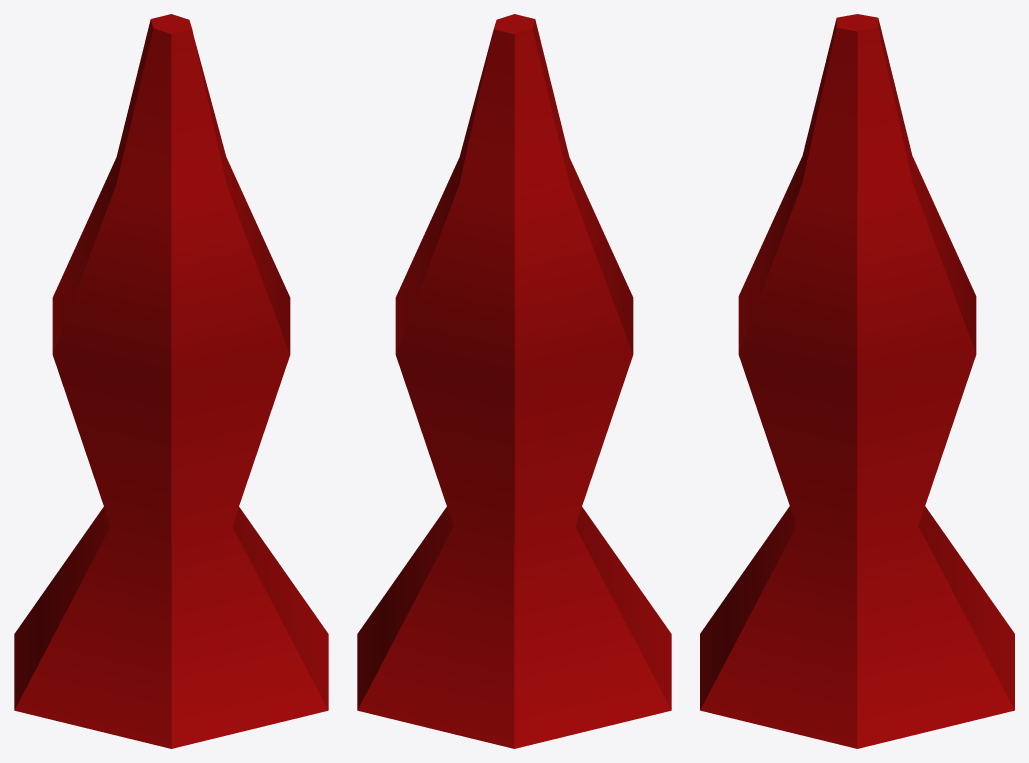
File: proyectil medio.fbx
3 views of the same model, side by side, from view 1: azimuth 30°, elevation 25°; view 2: azimuth 150°, elevation 25°; view 3: azimuth 270°, elevation 25° (orthographic).
Visible parts, largest first — view 1: pCylinder4; view 2: pCylinder4; view 3: pCylinder4.
Part boxes in pixels (x1,y1,x2,y2): pCylinder4: (14,14,328,748); pCylinder4: (357,14,671,748); pCylinder4: (700,14,1014,748).
Bounding box in the file's own units: 1.62 × 3.19 × 1.4.
